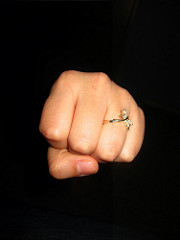fist: (42, 66, 149, 184)
